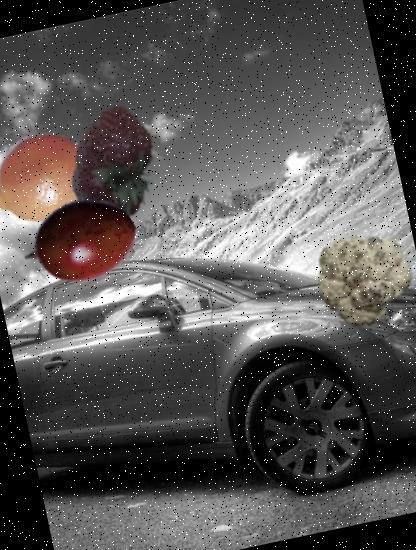Cauliflower: (306, 220, 416, 336)
Strawberry: (46, 94, 188, 236)
Tamarillo: (14, 176, 147, 310)
Tangelo: (0, 119, 101, 240)
